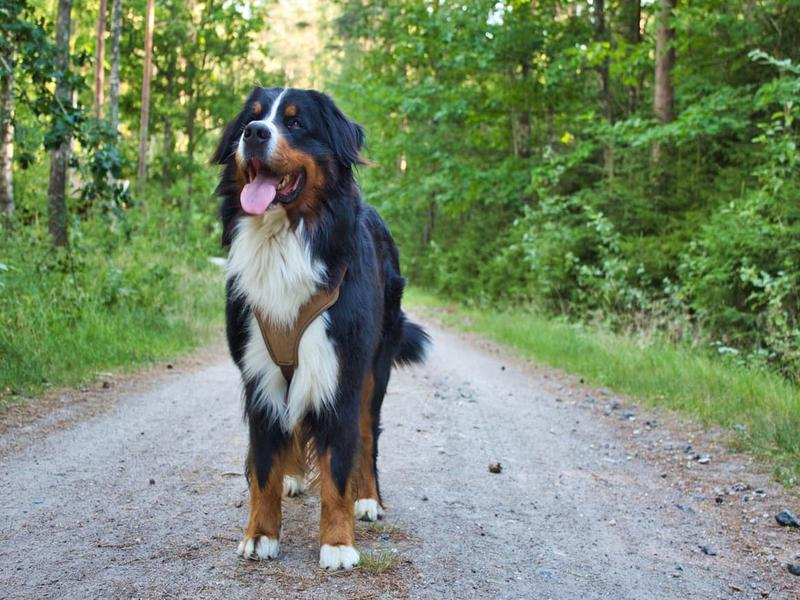dog_stand: (214, 80, 434, 571)
